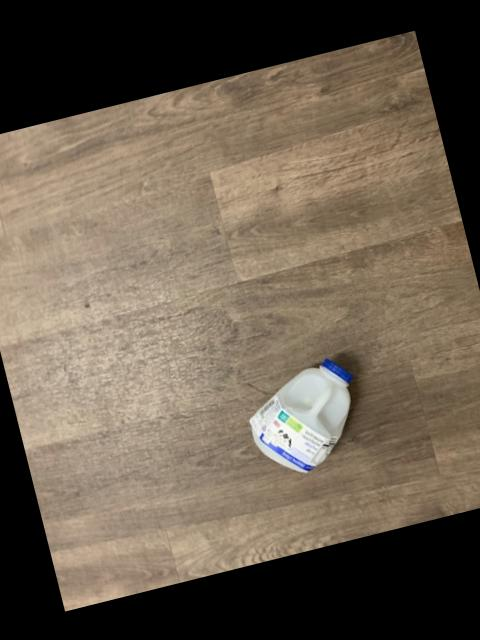plastic: (248, 357, 351, 469)
